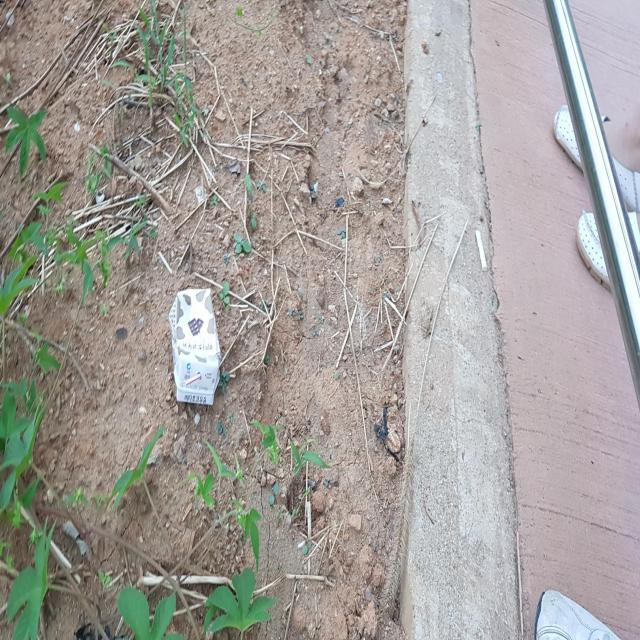paperpack: (169, 286, 220, 404)
